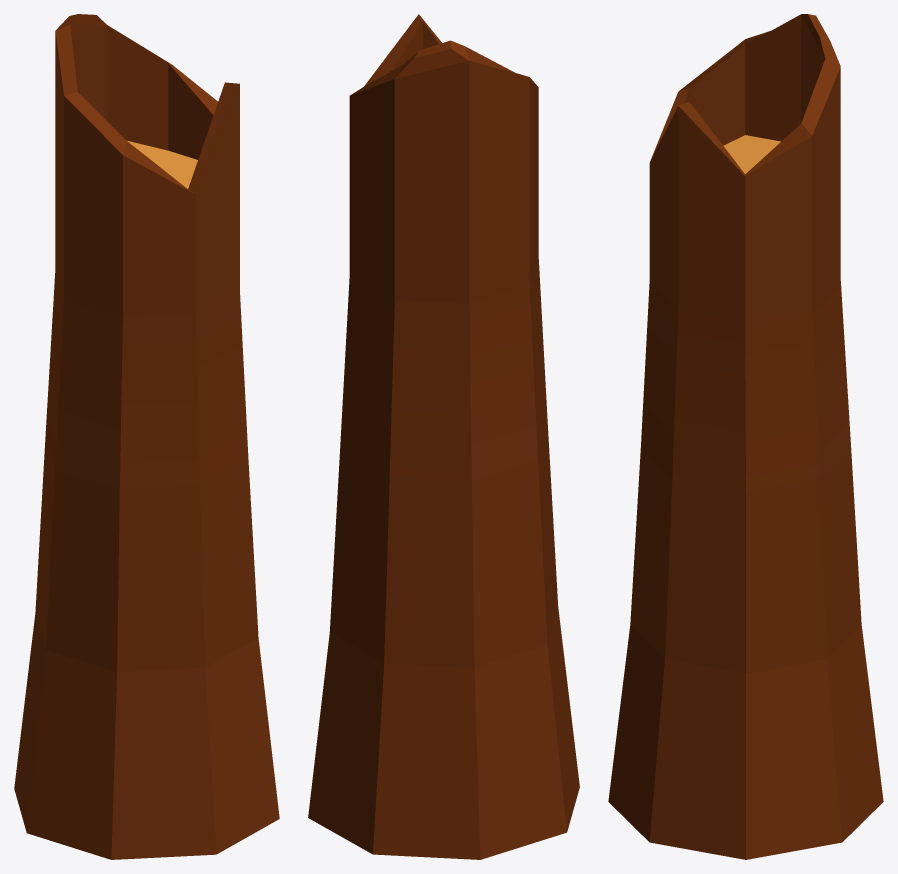
File: TreeTrunkV2.fbx
The picture shows the model from 3 angles, left to right: view 1: azimuth 30°, elevation 25°; view 2: azimuth 150°, elevation 25°; view 3: azimuth 270°, elevation 25°; orthographic projection. The views are drawn at different scales.
Visible parts, largest first — view 1: Only Trunk Tree V2; view 2: Only Trunk Tree V2; view 3: Only Trunk Tree V2.
Part boxes in pixels (x1,y1,x2,y2): Only Trunk Tree V2: (14, 14, 279, 859); Only Trunk Tree V2: (308, 14, 579, 859); Only Trunk Tree V2: (608, 14, 883, 859).
Bounding box in the file's own units: 3.17 × 3.17 × 9.77.
